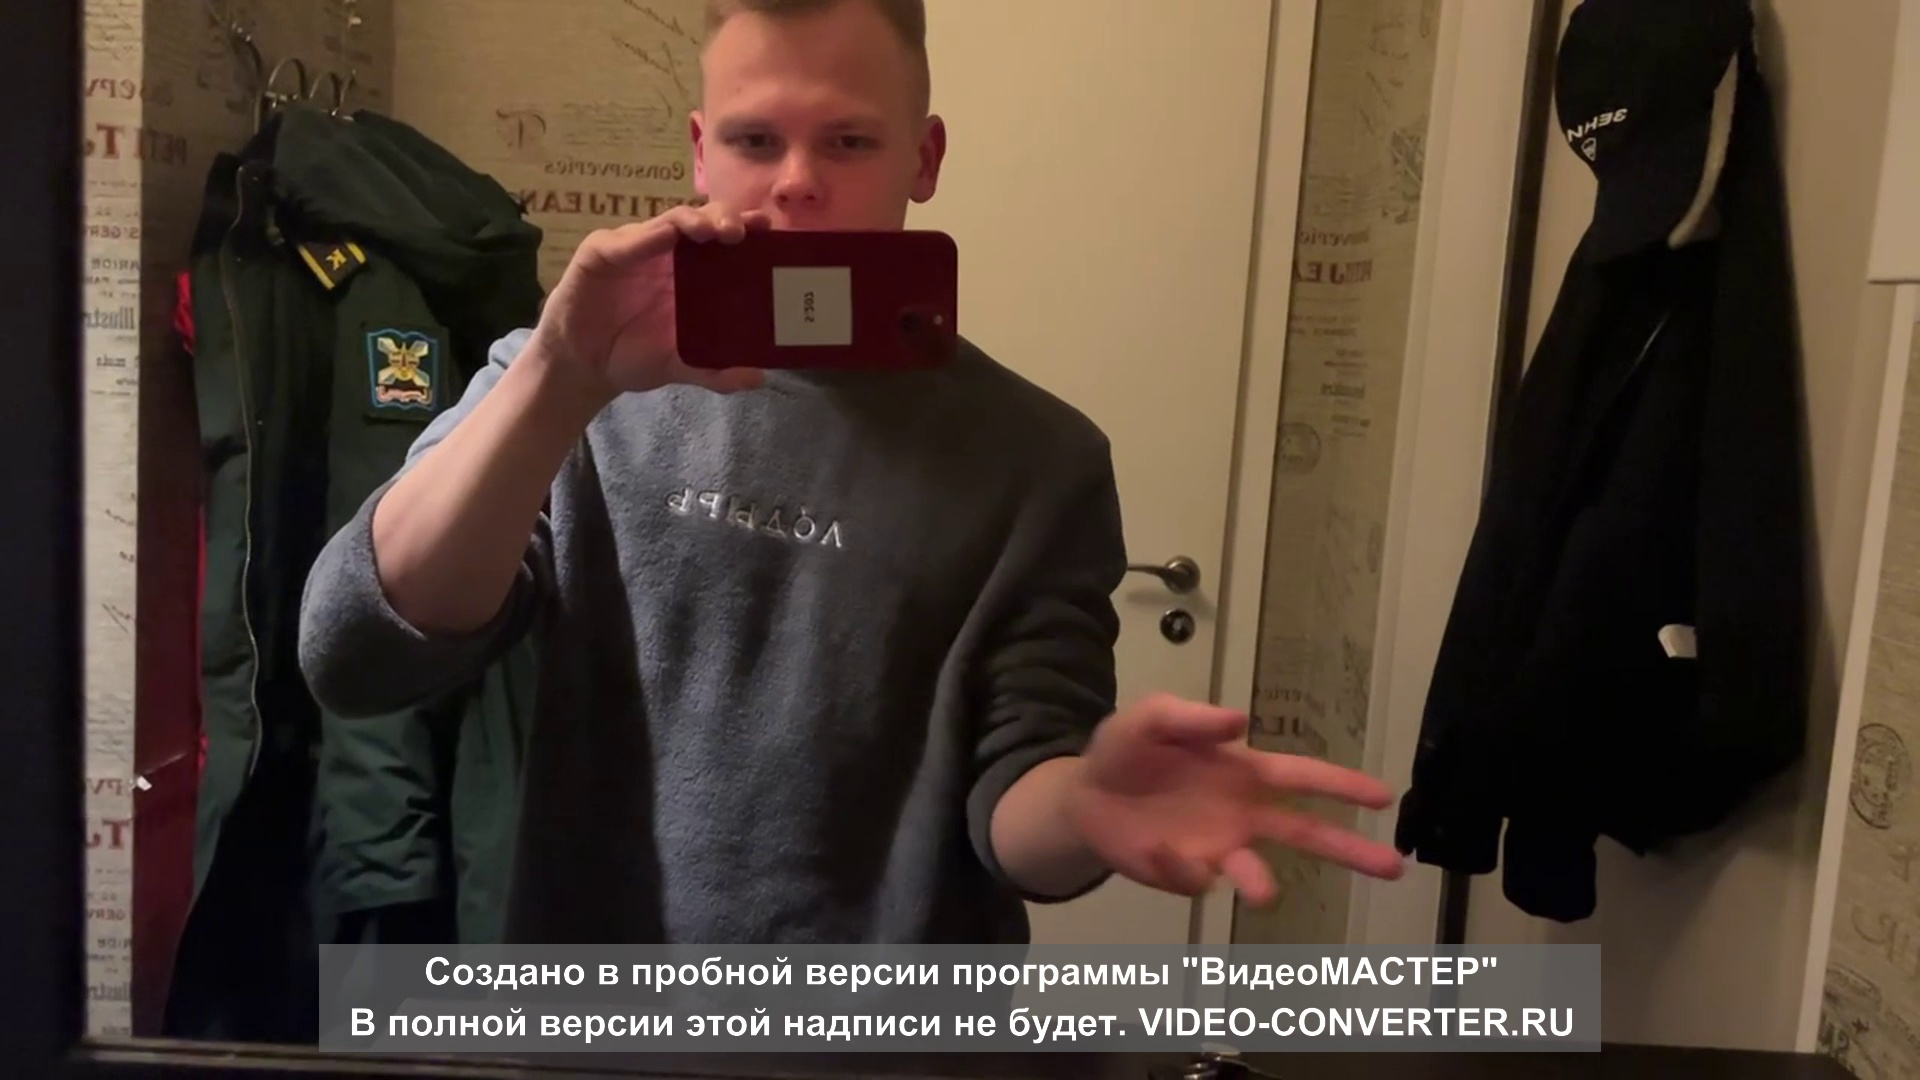Ладонь: (1084, 694, 1406, 910)
